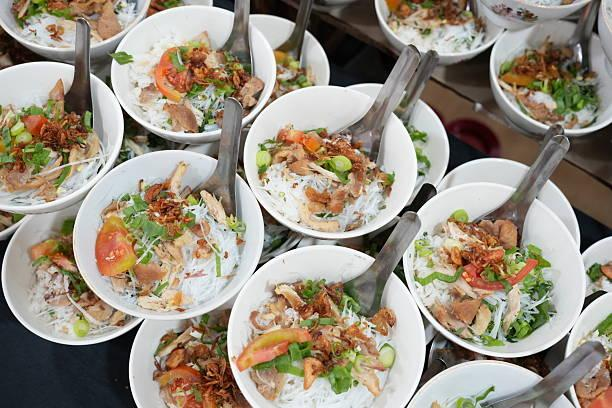Braised Crucian Carp: (73, 148, 266, 322), (224, 248, 425, 407), (403, 179, 581, 355), (241, 85, 413, 240), (109, 5, 274, 146), (0, 205, 141, 345), (0, 60, 127, 215), (489, 18, 609, 139), (123, 307, 248, 405), (0, 1, 154, 62), (375, 0, 502, 66)
